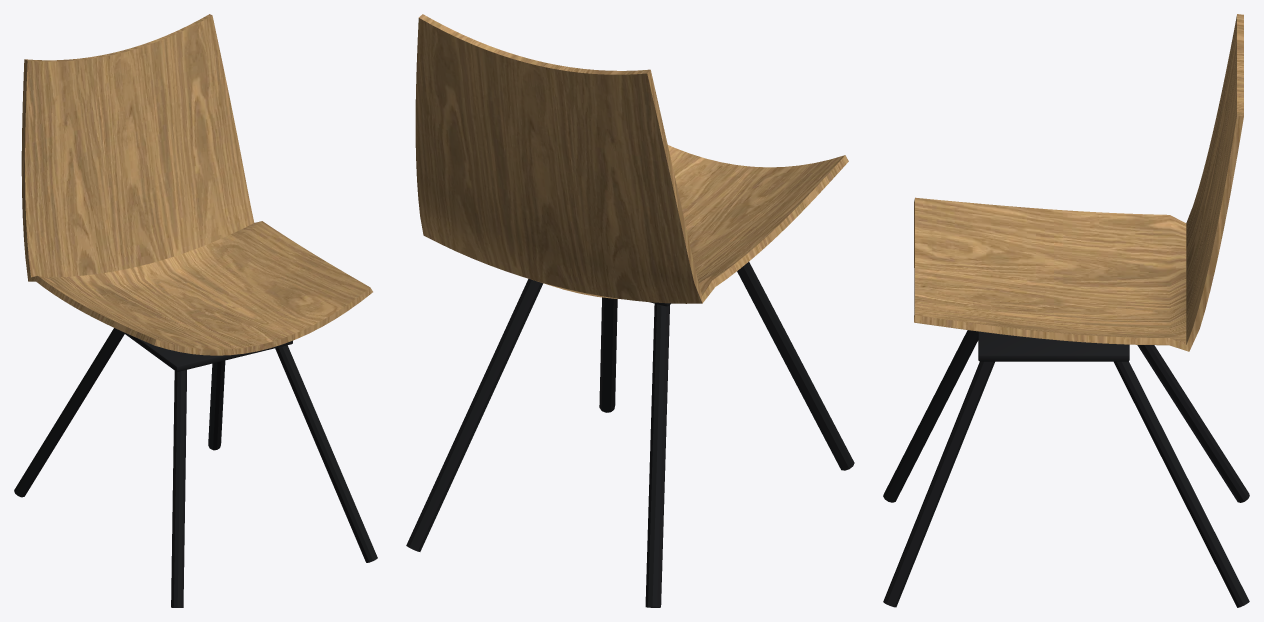
The model's file is shell_oak.glb.
3 views of the same model, side by side, from view 1: azimuth 30°, elevation 25°; view 2: azimuth 150°, elevation 25°; view 3: azimuth 270°, elevation 25° (orthographic). The views are drawn at different scales.
Parts seen in each view (by area): view 1: shell_oak; view 2: shell_oak; view 3: shell_oak.
Boxes of the visible parts, bbox=[...] form: shell_oak: bbox=[14, 14, 377, 607]; shell_oak: bbox=[406, 14, 854, 607]; shell_oak: bbox=[883, 14, 1249, 607].
Bounding box in the file's own units: 0.4733 × 0.8557 × 0.5808.
2 materials, 1 textured.
